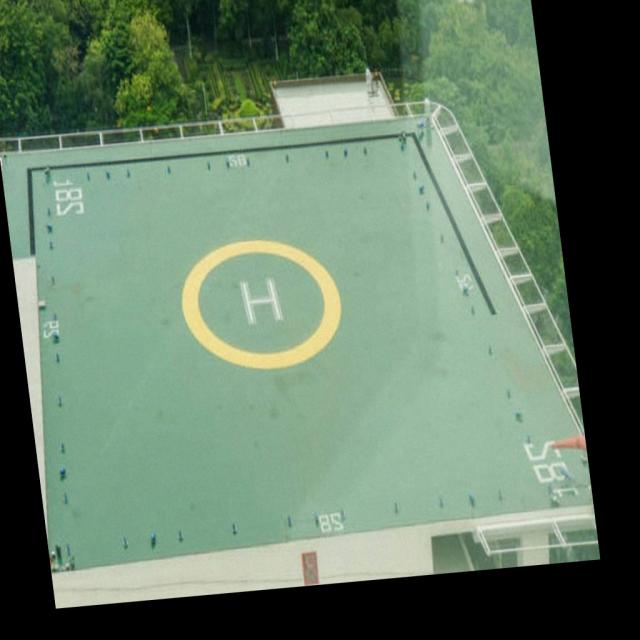helipad: (177, 234, 345, 372)
